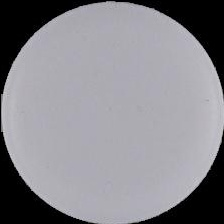67877-197: (0, 0, 224, 224)
